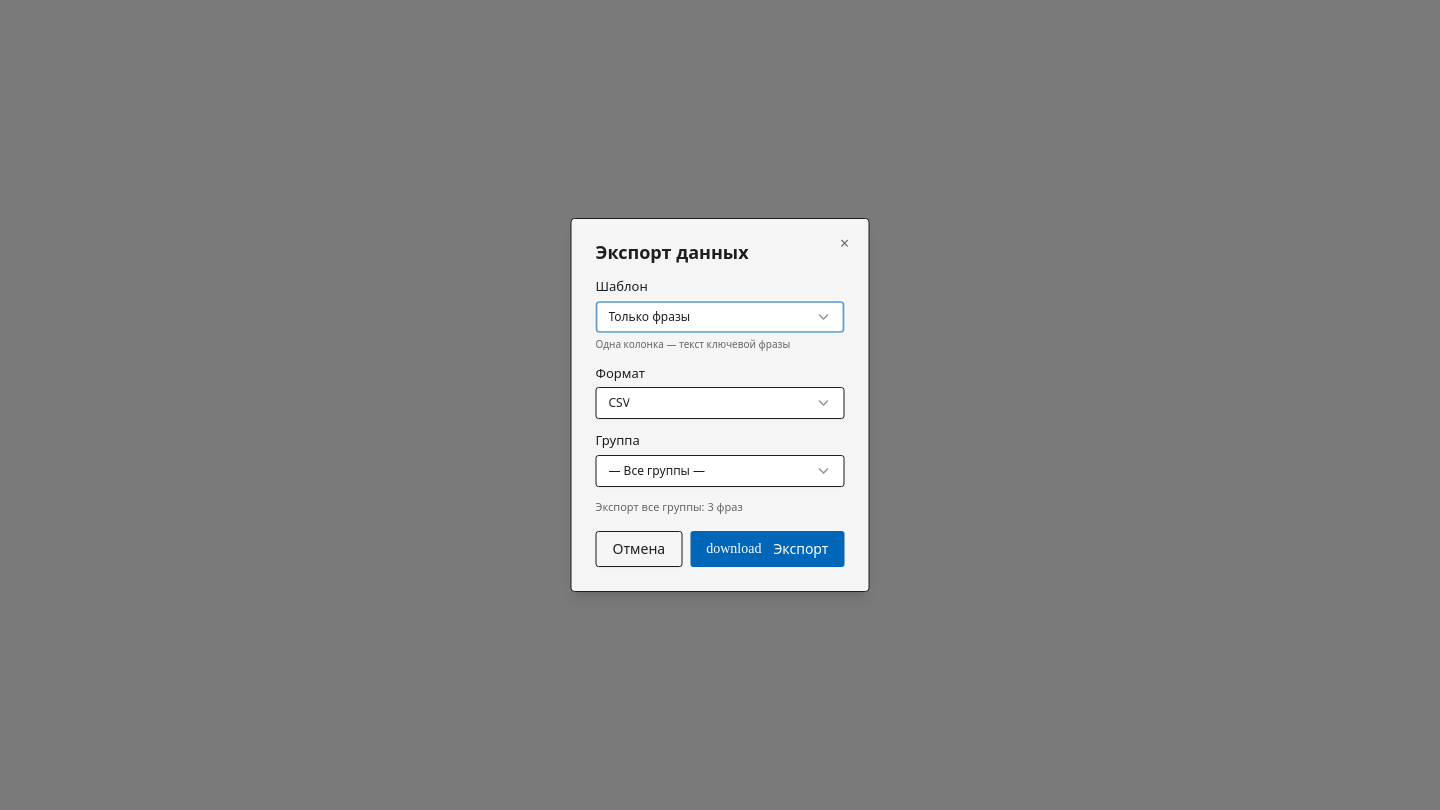
it: ExportDialog › should show template selector
The width and height of the screenshot is (1440, 810).
Expected: the text "Шаблон" is shown, [596, 277, 648, 295]
Click the dropdown named "Шаблон экспорта": [720, 316] box [596, 300, 844, 332]
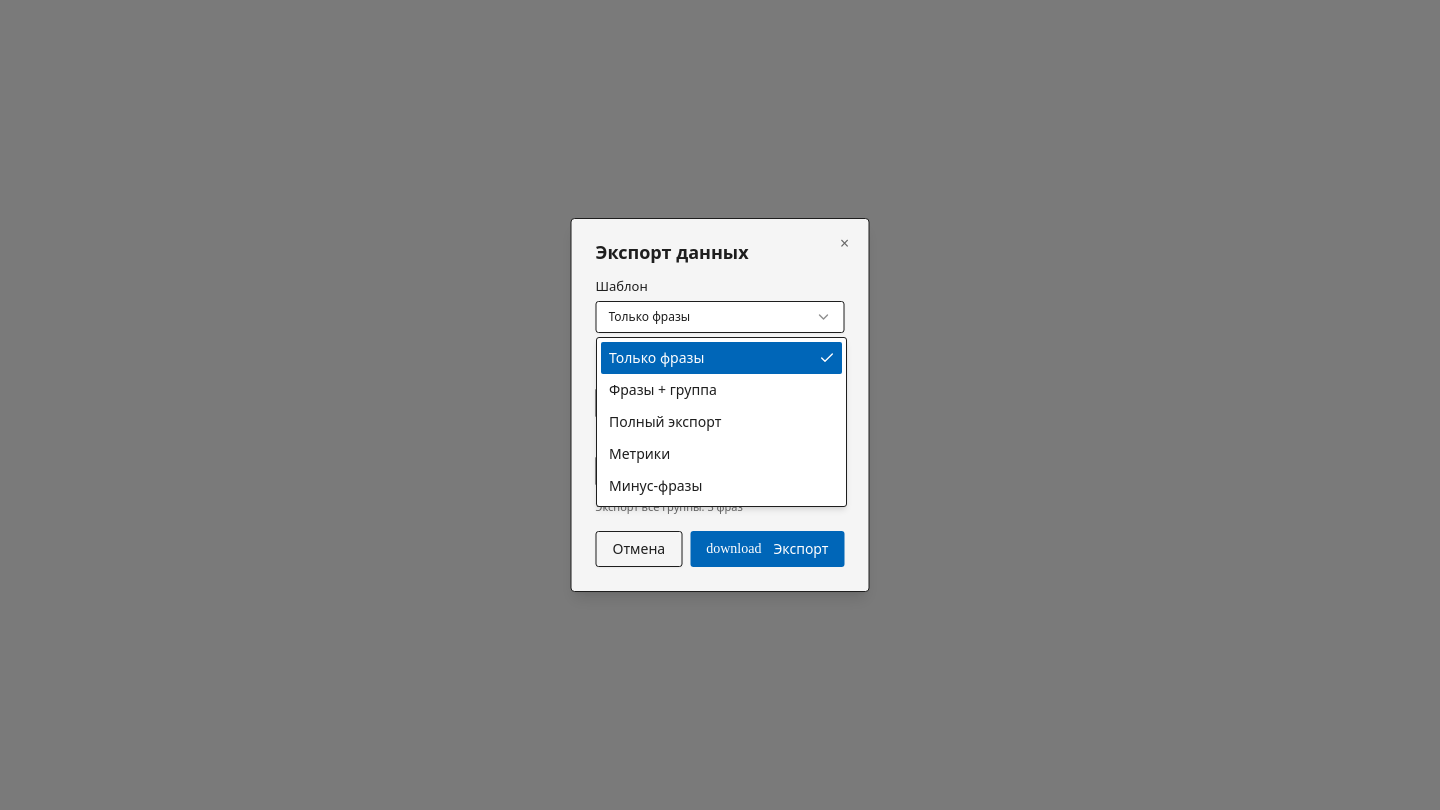
Expected: the text "Полный экспорт" is shown, [609, 412, 721, 432]
